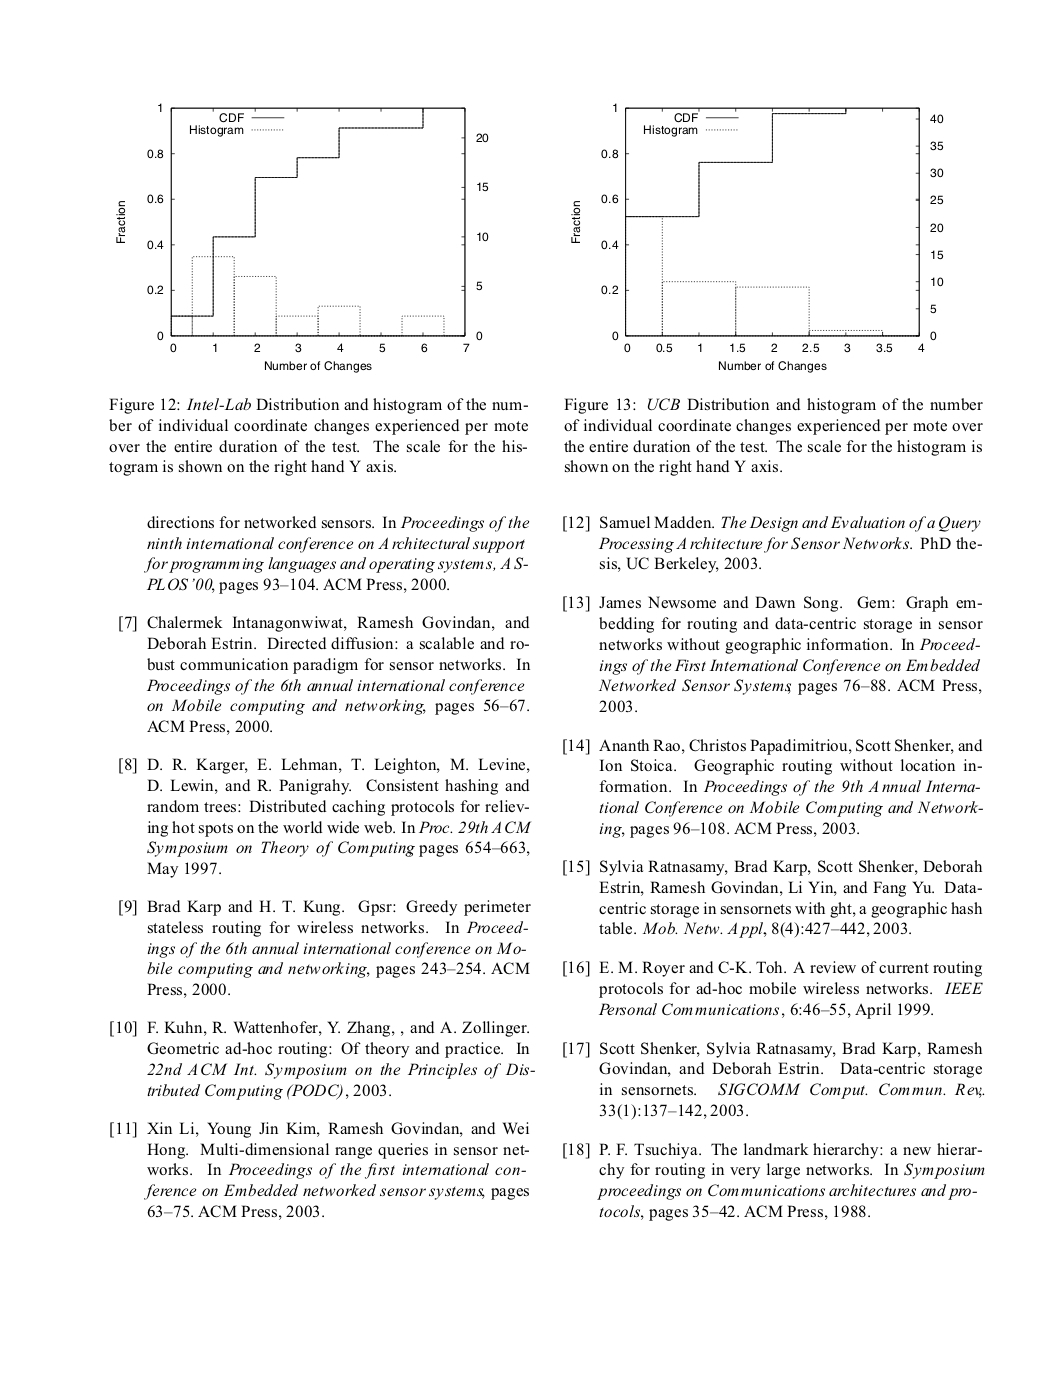figure: (116, 103, 488, 372), (571, 103, 943, 372)
